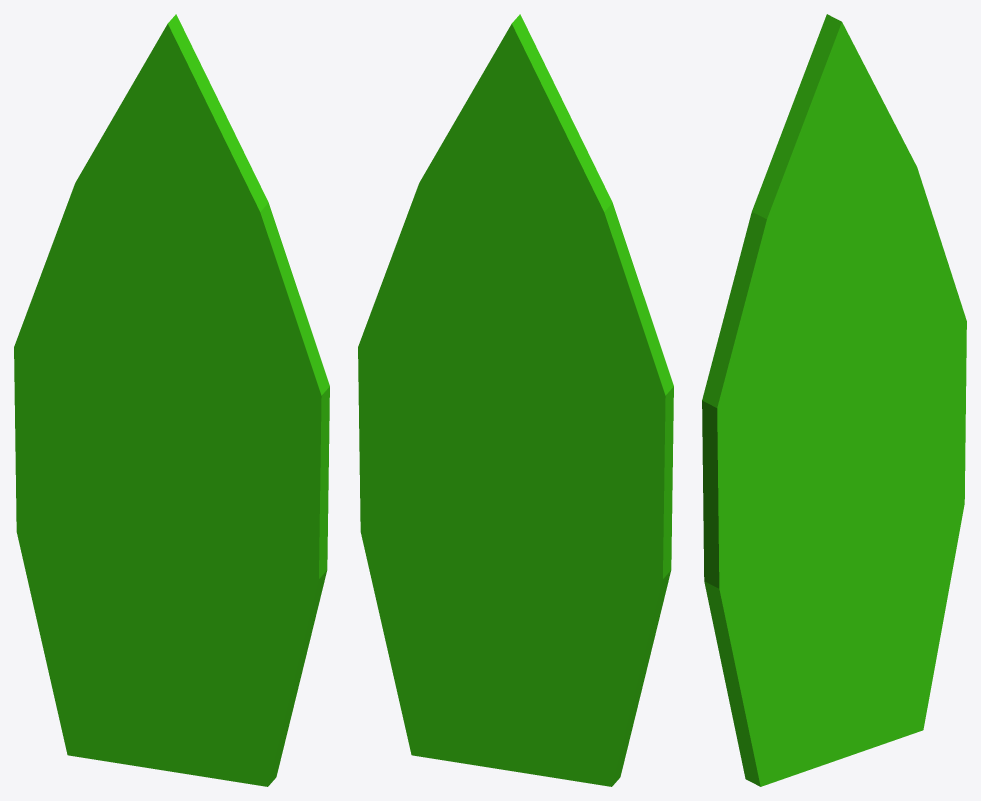
File: Rigged Grass Export 80.fbx
3 views of the same model, side by side, from view 1: azimuth 30°, elevation 25°; view 2: azimuth 210°, elevation 25°; view 3: azimuth 270°, elevation 25° (orthographic).
Visible parts, largest first — view 1: Grass 2 Left Right 4; view 2: Grass 2 Left Right 4; view 3: Grass 2 Left Right 4.
Part boxes in pixels (<box>): Grass 2 Left Right 4: <box>14,14,329,786</box>; Grass 2 Left Right 4: <box>358,14,673,786</box>; Grass 2 Left Right 4: <box>702,14,966,786</box>.
Bounding box in the file's own units: 97.31 × 353 × 115.
